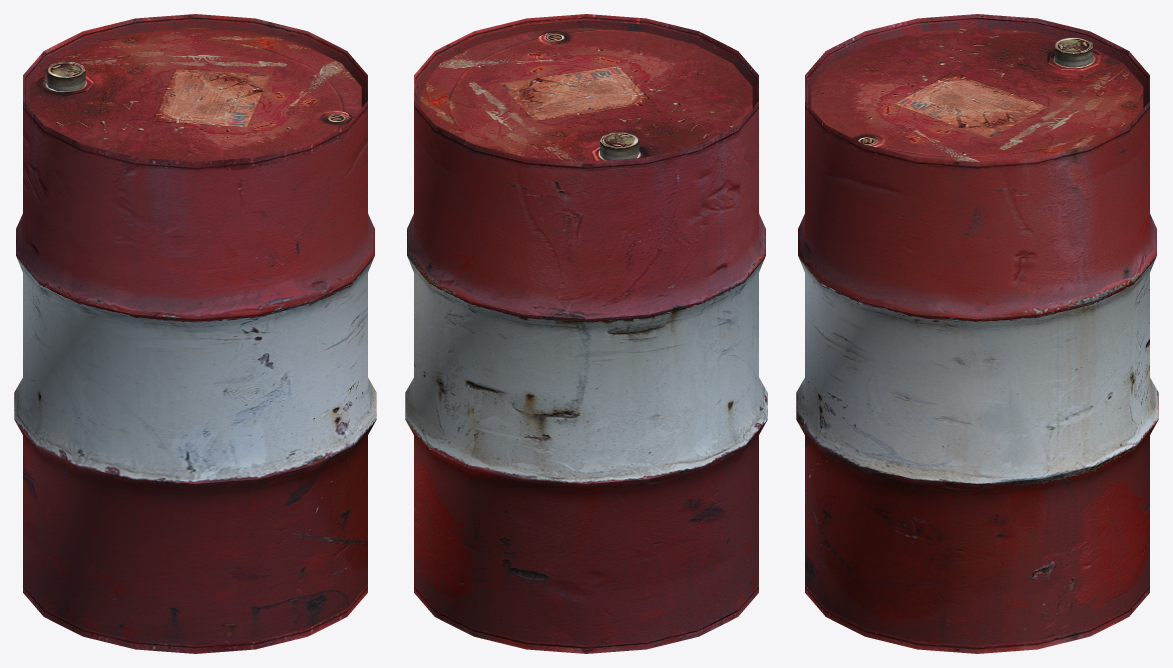
File: barrel-1.FBX
3 views of the same model, side by side, from view 1: azimuth 30°, elevation 25°; view 2: azimuth 150°, elevation 25°; view 3: azimuth 270°, elevation 25° (orthographic).
Parts seen in each view (by area): view 1: barrel-1_LOD0; view 2: barrel-1_LOD0; view 3: barrel-1_LOD0.
Part boxes in pixels (box(x1,y1,x2,y2)): barrel-1_LOD0: box(14, 14, 376, 653); barrel-1_LOD0: box(405, 14, 767, 653); barrel-1_LOD0: box(796, 14, 1158, 653).
Size of what is drawn, in the model's own units: 31.11 by 46.14 by 30.64.
